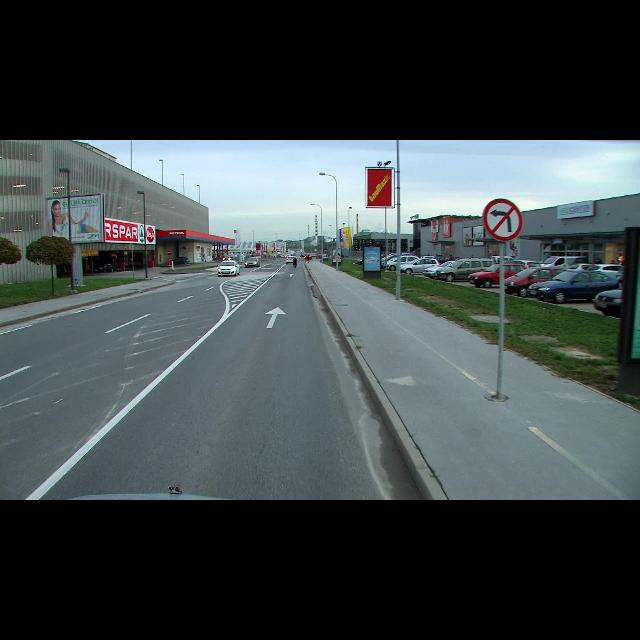Round: (482, 199, 524, 241)
